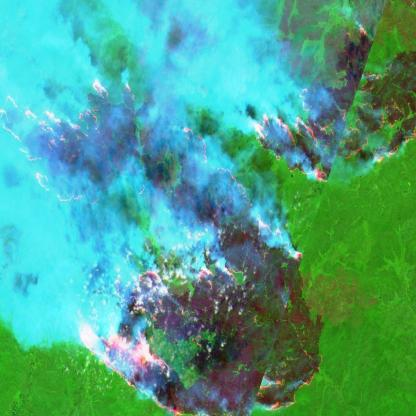fire: (0, 18, 416, 416)
